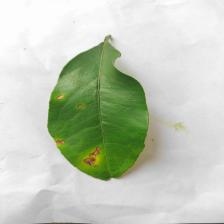canker: (36, 93, 109, 173)
